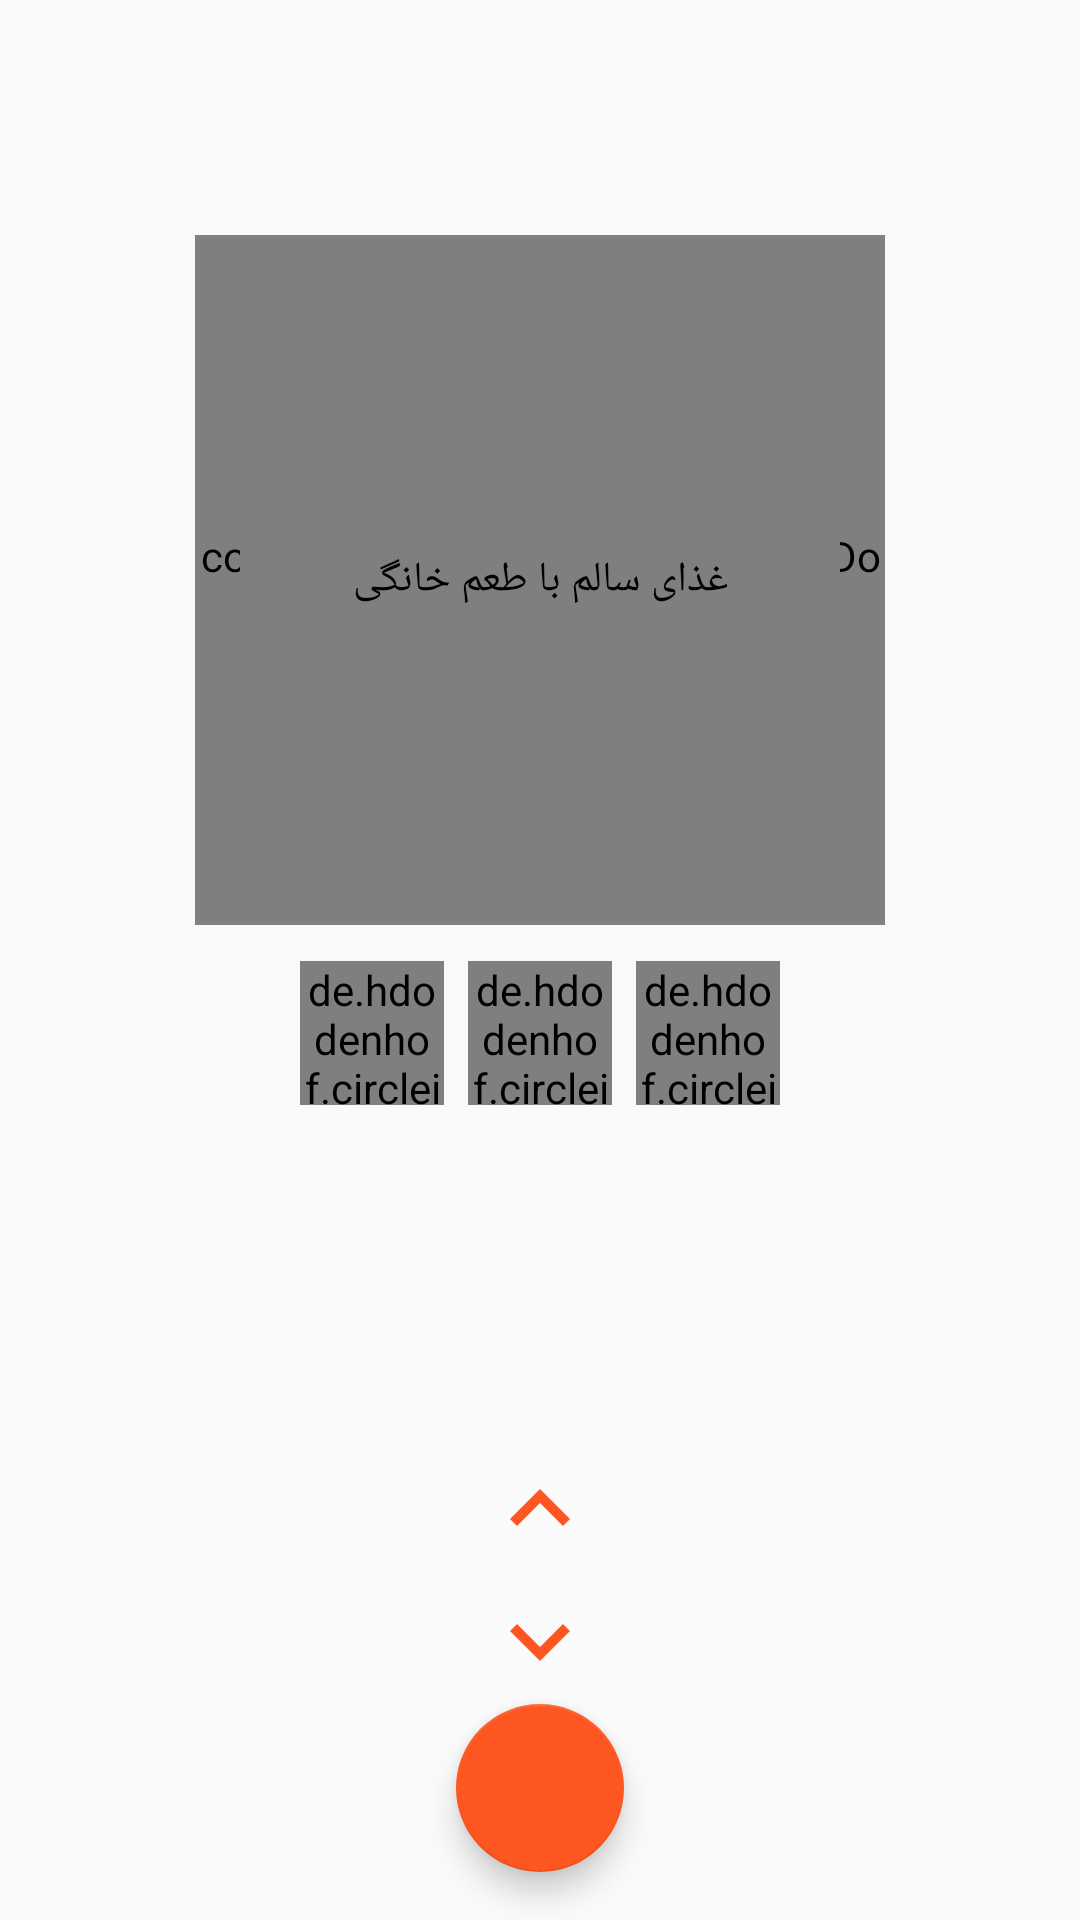

Icons on this 1080px×1920px Android screen, each with its box as (x1, y1, x2, y2):
arrow down: (510, 1624, 570, 1661)
arrow up: (510, 1489, 570, 1526)
